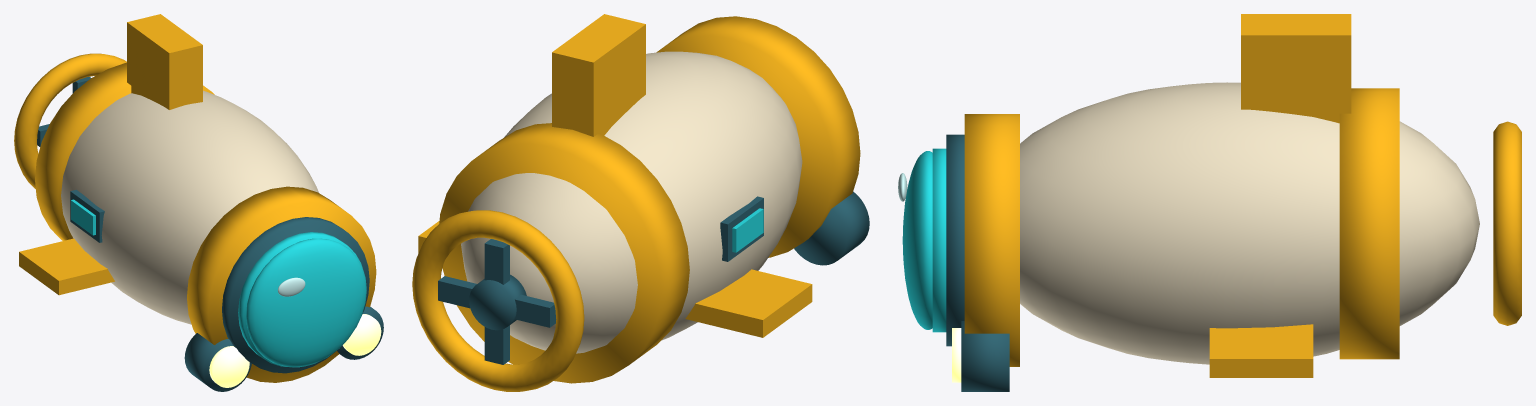
The model's file is submarine.glb.
3 views of the same model, side by side, from view 1: azimuth 30°, elevation 25°; view 2: azimuth 150°, elevation 25°; view 3: azimuth 270°, elevation 25° (orthographic). The views are drawn at different scales.
Visible parts, largest first — view 1: Submarine hull, Domed glass, Nose rim, Top fin, Rear golden hull band, Window frame, Open propeller ring, Side fin, Cyan window, Lamp housing, Lamp lens, Lamp lens.001 (+4 smaller); view 2: Submarine hull, Rear golden hull band, Nose rim, Open propeller ring, Top fin, Side fin, Lamp housing, Propeller hub, Propeller blade.001, Propeller blade, Sub side panel bezel, Sub side panel; view 3: Submarine hull, Rear golden hull band, Nose rim, Top fin, Open propeller ring, Side fin.001, Domed glass, Window frame, Lamp housing.001, Cyan window, Lamp lens.001.
Part boxes in pixels (box(x1,y1,x2,y2)): Submarine hull: box(61, 90, 318, 324); Domed glass: box(246, 238, 366, 367); Nose rim: box(187, 186, 376, 382); Top fin: box(127, 14, 202, 109); Rear golden hull band: box(35, 62, 214, 240); Window frame: box(222, 217, 369, 373); Open propeller ring: box(14, 53, 126, 189); Side fin: box(19, 238, 114, 295); Cyan window: box(238, 232, 362, 367); Lamp housing: box(184, 333, 251, 391); Lamp lens: box(209, 346, 249, 387); Lamp lens.001: box(342, 314, 381, 355); Submarine hull: box(461, 51, 802, 353); Rear golden hull band: box(439, 123, 689, 383); Nose rim: box(656, 16, 860, 257); Open propeller ring: box(412, 210, 584, 391); Top fin: box(552, 14, 645, 136); Side fin: box(685, 269, 812, 337); Lamp housing: box(794, 191, 869, 265); Propeller hub: box(469, 274, 526, 330); Propeller blade.001: box(484, 239, 509, 364); Propeller blade: box(438, 276, 556, 327); Sub side panel bezel: box(720, 196, 763, 261); Sub side panel: box(732, 208, 763, 252); Submarine hull: box(1020, 82, 1479, 364); Rear golden hull band: box(1339, 88, 1399, 359); Nose rim: box(964, 114, 1019, 366); Top fin: box(1241, 14, 1351, 123); Open propeller ring: box(1493, 121, 1521, 325); Side fin.001: box(1209, 324, 1313, 377); Domed glass: box(902, 151, 932, 329); Window frame: box(946, 134, 964, 346); Lamp housing.001: box(961, 321, 1009, 391); Cyan window: box(932, 148, 946, 332); Lamp lens.001: box(952, 328, 961, 382).
Size of the model in its own units: 1.82 by 1.59 by 2.71.
